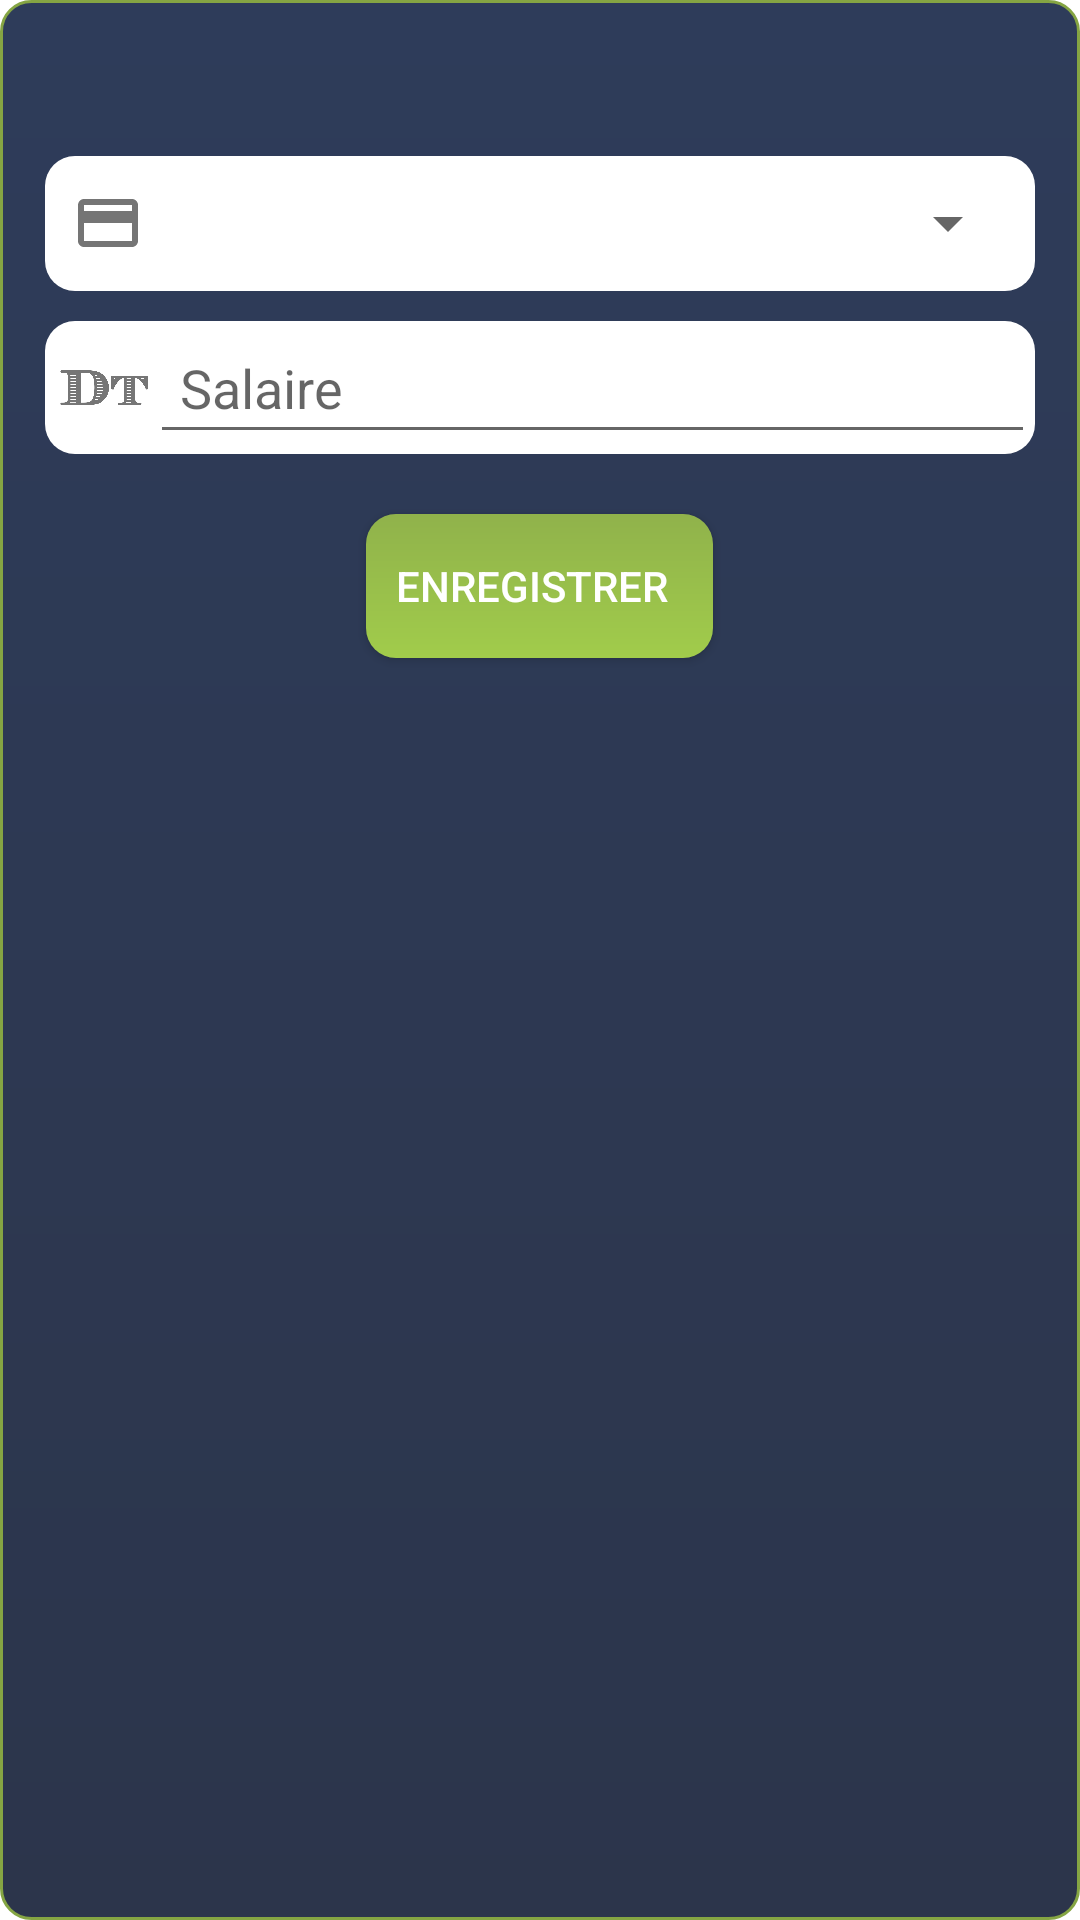

Where to tap for icons on this 1080x1920 app screen, as (x=x, y=y):
credit card: (x=108, y=223)
